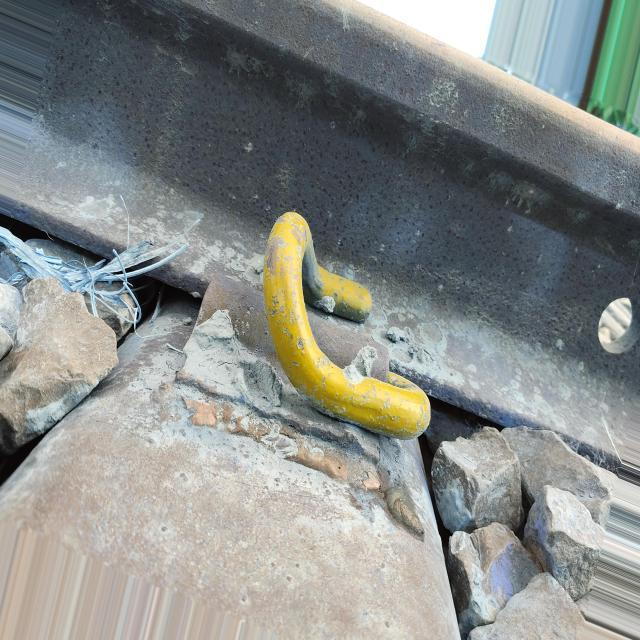Good Fasteners: (176, 213, 430, 442)
